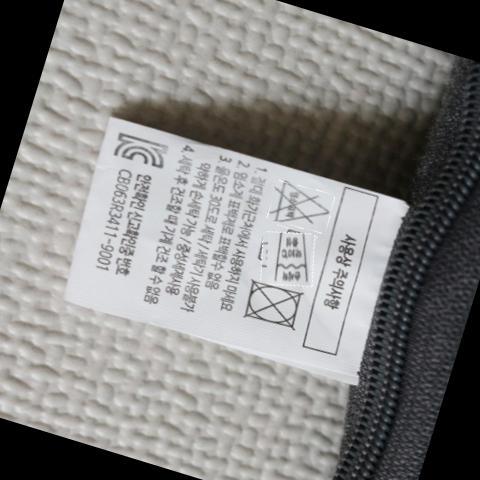DN_tumble_dry: (245, 283, 305, 329)
hand_wash: (269, 230, 312, 286)
non_chlorine_bleach: (272, 181, 330, 225)
